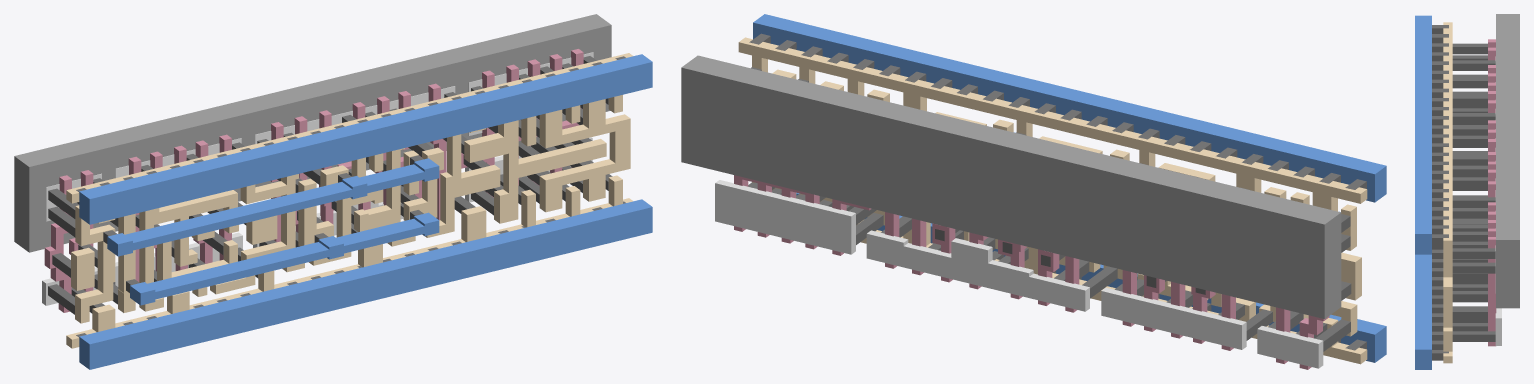
Rendered from sky130_fd_sc_hd__sdfxtp_4.gds.gltf.
3 views of the same model, side by side, from view 1: azimuth 30°, elevation 25°; view 2: azimuth 150°, elevation 25°; view 3: azimuth 270°, elevation 25° (orthographic). The views are drawn at different scales.
Parts seen in each view (by area): view 1: sky130_fd_sc_hd__sdfxtp_4_met1, sky130_fd_sc_hd__sdfxtp_4_li1, sky130_fd_sc_hd__sdfxtp_4_nwell, sky130_fd_sc_hd__sdfxtp_4_poly, sky130_fd_sc_hd__sdfxtp_4_licon, sky130_fd_sc_hd__sdfxtp_4_diff, sky130_fd_sc_hd__sdfxtp_4_mcon; view 2: sky130_fd_sc_hd__sdfxtp_4_nwell, sky130_fd_sc_hd__sdfxtp_4_diff, sky130_fd_sc_hd__sdfxtp_4_li1, sky130_fd_sc_hd__sdfxtp_4_met1, sky130_fd_sc_hd__sdfxtp_4_poly, sky130_fd_sc_hd__sdfxtp_4_licon, sky130_fd_sc_hd__sdfxtp_4_mcon; view 3: sky130_fd_sc_hd__sdfxtp_4_licon, sky130_fd_sc_hd__sdfxtp_4_nwell, sky130_fd_sc_hd__sdfxtp_4_met1, sky130_fd_sc_hd__sdfxtp_4_mcon, sky130_fd_sc_hd__sdfxtp_4_li1, sky130_fd_sc_hd__sdfxtp_4_poly, sky130_fd_sc_hd__sdfxtp_4_diff.
Part boxes in pixels (x1,y1,x2,y2): sky130_fd_sc_hd__sdfxtp_4_met1: (79,54,652,369); sky130_fd_sc_hd__sdfxtp_4_li1: (66,53,633,348); sky130_fd_sc_hd__sdfxtp_4_nwell: (14,14,611,252); sky130_fd_sc_hd__sdfxtp_4_poly: (44,49,583,312); sky130_fd_sc_hd__sdfxtp_4_licon: (48,56,612,314); sky130_fd_sc_hd__sdfxtp_4_diff: (42,52,593,305); sky130_fd_sc_hd__sdfxtp_4_mcon: (76,56,625,337); sky130_fd_sc_hd__sdfxtp_4_nwell: (681,55,1341,318); sky130_fd_sc_hd__sdfxtp_4_diff: (715,180,1323,368); sky130_fd_sc_hd__sdfxtp_4_li1: (738,37,1367,364); sky130_fd_sc_hd__sdfxtp_4_met1: (753,14,1386,362); sky130_fd_sc_hd__sdfxtp_4_poly: (734,175,1329,369); sky130_fd_sc_hd__sdfxtp_4_licon: (748,67,1351,351); sky130_fd_sc_hd__sdfxtp_4_mcon: (749,33,1366,350); sky130_fd_sc_hd__sdfxtp_4_licon: (1452,43,1495,341); sky130_fd_sc_hd__sdfxtp_4_nwell: (1496,14,1519,308); sky130_fd_sc_hd__sdfxtp_4_met1: (1415,15,1431,369); sky130_fd_sc_hd__sdfxtp_4_mcon: (1432,25,1448,360); sky130_fd_sc_hd__sdfxtp_4_li1: (1443,22,1452,363); sky130_fd_sc_hd__sdfxtp_4_poly: (1488,39,1496,346); sky130_fd_sc_hd__sdfxtp_4_diff: (1495,56,1501,345).
Bounding box in the file's own units: 11.42 × 3.2 × 2.24.
